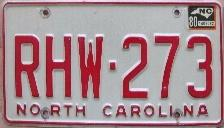2: (119, 34, 151, 99)
3: (185, 33, 215, 100)
7: (153, 34, 183, 101)
H: (45, 34, 73, 98)
R: (12, 33, 43, 99)
W: (74, 33, 108, 102)
